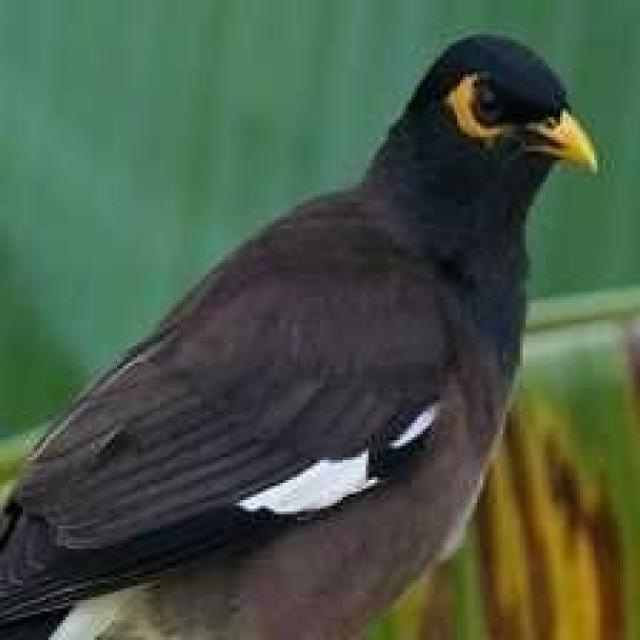bird: (2, 16, 611, 633)
